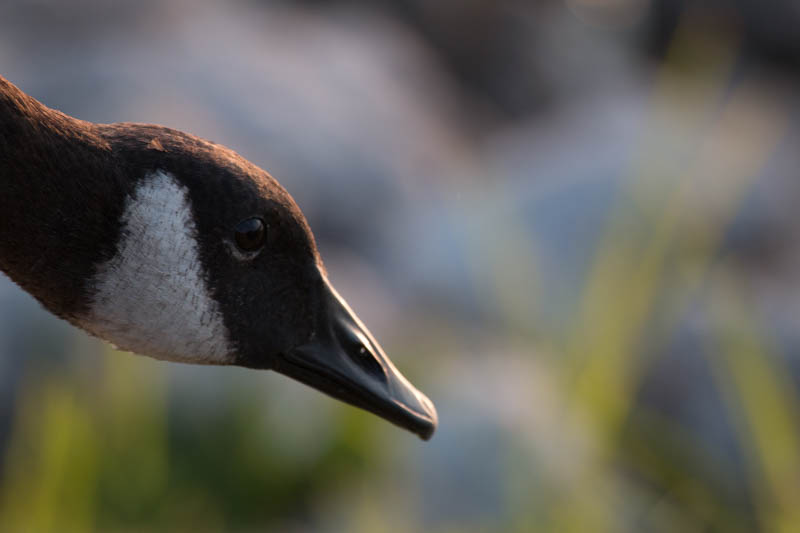goose-head: (32, 121, 439, 441)
